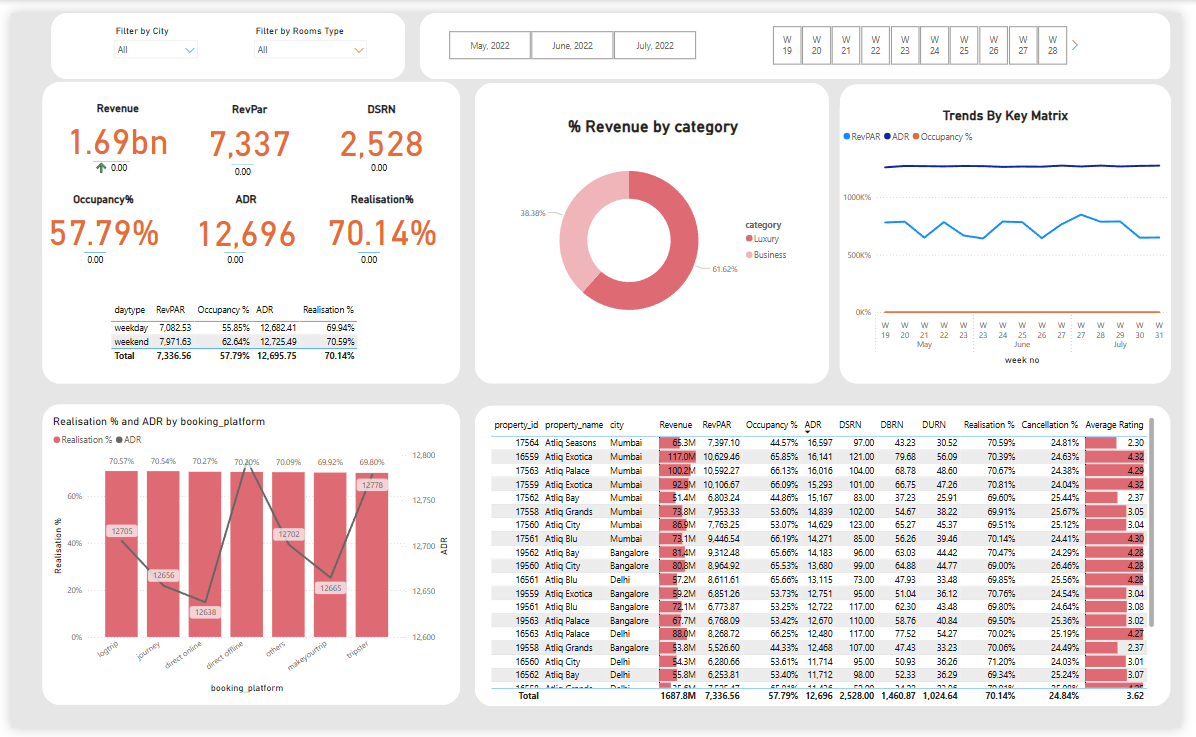

What the dashboard file says about the page in this screenshot:
{"tool":"powerbi","page":{"name":"Page 1","canvas":[1800,1100],"ordinal":0},"visuals":[{"type":"shape","box":[713.7,603.9,1070.6,462.7],"z":0},{"type":"shape","box":[49,602,643.1,462.7],"z":1000},{"type":"shape","box":[1274.5,109.8,509.8,460.8],"z":2000},{"type":"shape","box":[713.7,107.8,545.1,462.7],"z":3000},{"type":"shape","box":[49,105.9,643.1,464.7],"z":4000},{"type":"shape","box":[629.4,0,1154.9,102],"z":5000},{"type":"shape","box":[60.8,0,545.1,102],"z":6000},{"type":"tableEx","fields":{"Values":["dimhotels.property_id","dimhotels.property_name","dimhotels.city","keymeasures.Revenue","keymeasures.RevPAR","keymeasures.Occupancy %","keymeasures.ADR","keymeasures.DSRN","keymeasures.DBRN","keymeasures.DURN","keymeasures.Realisation %","keymeasures.Cancellation %"]},"box":[733.3,617.6,1031.4,447.1],"z":7000},{"type":"slicer","fields":{"Values":["dimhotels.city"]},"box":[149,13.7,149,88.2],"z":8000},{"type":"slicer","fields":{"Values":["dimrooms.room_class"]},"box":[362.7,13.7,194.1,88.2],"z":9000},{"type":"slicer","fields":{"Values":["dimdate.mmm yy"]},"box":[649,21.6,429.4,56.9],"z":10000},{"type":"slicer","fields":{"Values":["dimdate.week no"]},"box":[1147.1,13.7,502,72.5],"z":11000},{"type":"tableEx","fields":{"Values":["keymeasures.Revenue WoW change %"]},"box":[118.6,194.3,90,71.4],"z":12000},{"type":"card","title":"Revenue","fields":{"Values":["keymeasures.Revenue"]},"box":[74.3,137.1,178.6,91.4],"z":13000},{"type":"donutChart","title":"% Revenue by category","fields":{"Category":["dimhotels.category"],"Y":["keymeasures.Revenue"]},"box":[766.7,158.8,441.2,352.9],"z":14000},{"type":"lineChart","title":"Trends By Key Matrix","fields":{"Category":["dimdate.mmm yy.Variation.Date Hierarchy.Month","dimdate.week no"],"Y":["keymeasures.RevPAR","keymeasures.ADR","keymeasures.Occupancy %"]},"box":[1274.5,147.1,509.8,400],"z":15000},{"type":"lineStackedColumnComboChart","fields":{"Category":["factbookings.booking_platform"],"Y":["keymeasures.Realisation %"],"Y2":["keymeasures.ADR"]},"box":[58.8,617.6,619.6,433.3],"z":16000},{"type":"tableEx","fields":{"Values":["dimdate.daytype","keymeasures.RevPAR","keymeasures.Occupancy %","keymeasures.ADR","keymeasures.Realisation %"]},"box":[149,441.2,417.6,105.9],"z":17000},{"type":"tableEx","fields":{"Values":["keymeasures.Revpar WoW change %"]},"box":[332.9,200,77.1,60],"z":18000},{"type":"tableEx","fields":{"Values":["keymeasures.DSRN WoW change %"]},"box":[542.9,194.3,78.6,81.4],"z":19000},{"type":"card","title":"RevPar","fields":{"Values":["keymeasures.RevPAR"]},"box":[275.7,138.6,184.3,91.4],"z":20000},{"type":"card","title":"DSRN","fields":{"Values":["keymeasures.DSRN"]},"box":[472.9,138.6,194.3,92.9],"z":21000},{"type":"tableEx","fields":{"Values":["keymeasures.Occupancy WoW change %"]},"box":[105.9,335.3,84.3,72.5],"z":22000},{"type":"tableEx","fields":{"Values":["keymeasures.ADR WoW change %"]},"box":[321.6,335.3,94.1,72.5],"z":23000},{"type":"tableEx","fields":{"Values":["keymeasures.Realisation WoW change %"]},"box":[527.5,335.3,107.8,72.5],"z":24000},{"type":"card","title":"Occupancy%","fields":{"Values":["keymeasures.Occupancy %"]},"box":[49,276.5,188.2,90.2],"z":25000},{"type":"card","title":"ADR","fields":{"Values":["keymeasures.ADR"]},"box":[270.1,276.5,184.8,91.1],"z":26000},{"type":"card","title":"Realisation%","fields":{"Values":["keymeasures.Realisation %"]},"box":[478.4,276.5,184.3,90.2],"z":27000}]}

Visuals, with their boxes in screenshot pixels (x1, y1, x2, y2), scaled from the page's 1800x1100 canvas onto the 1196x737 screenshot:
shape: 474,405,1186,715
shape: 33,403,460,713
shape: 847,74,1186,382
shape: 474,72,836,382
shape: 33,71,460,382
shape: 418,0,1186,68
shape: 40,0,403,68
tableEx - dimhotels.property_id x dimhotels.property_name: 487,414,1173,713
slicer - dimhotels.city: 99,9,198,68
slicer - dimrooms.room_class: 241,9,370,68
slicer - dimdate.mmm yy: 431,14,717,53
slicer - dimdate.week no: 762,9,1096,58
tableEx - keymeasures.Revenue WoW change %: 79,130,139,178
"Revenue" card: 49,92,168,153
"% Revenue by category" donutChart: 509,106,803,343
"Trends By Key Matrix" lineChart: 847,99,1186,367
lineStackedColumnComboChart - factbookings.booking_platform x keymeasures.Realisation %: 39,414,451,704
tableEx - dimdate.daytype x keymeasures.RevPAR: 99,296,376,367
tableEx - keymeasures.Revpar WoW change %: 221,134,272,174
tableEx - keymeasures.DSRN WoW change %: 361,130,413,185
"RevPar" card: 183,93,306,154
"DSRN" card: 314,93,443,155
tableEx - keymeasures.Occupancy WoW change %: 70,225,126,273
tableEx - keymeasures.ADR WoW change %: 214,225,276,273
tableEx - keymeasures.Realisation WoW change %: 350,225,422,273
"Occupancy%" card: 33,185,158,246
"ADR" card: 179,185,302,246
"Realisation%" card: 318,185,440,246
